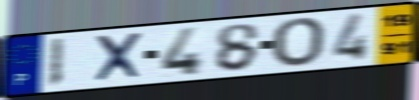4: (159, 25, 207, 78), (330, 11, 372, 64)
8: (214, 22, 262, 73)
I: (46, 36, 67, 89)
O: (269, 16, 329, 70)
X: (93, 31, 147, 85)
